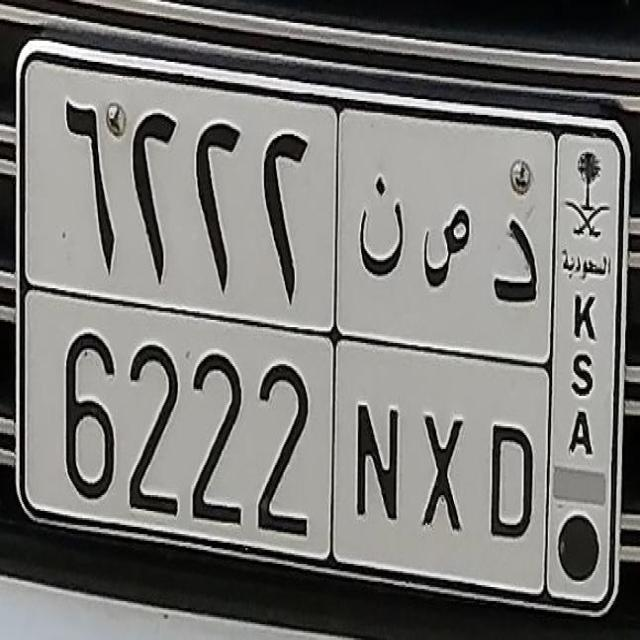license_plate: (19, 38, 623, 609)
